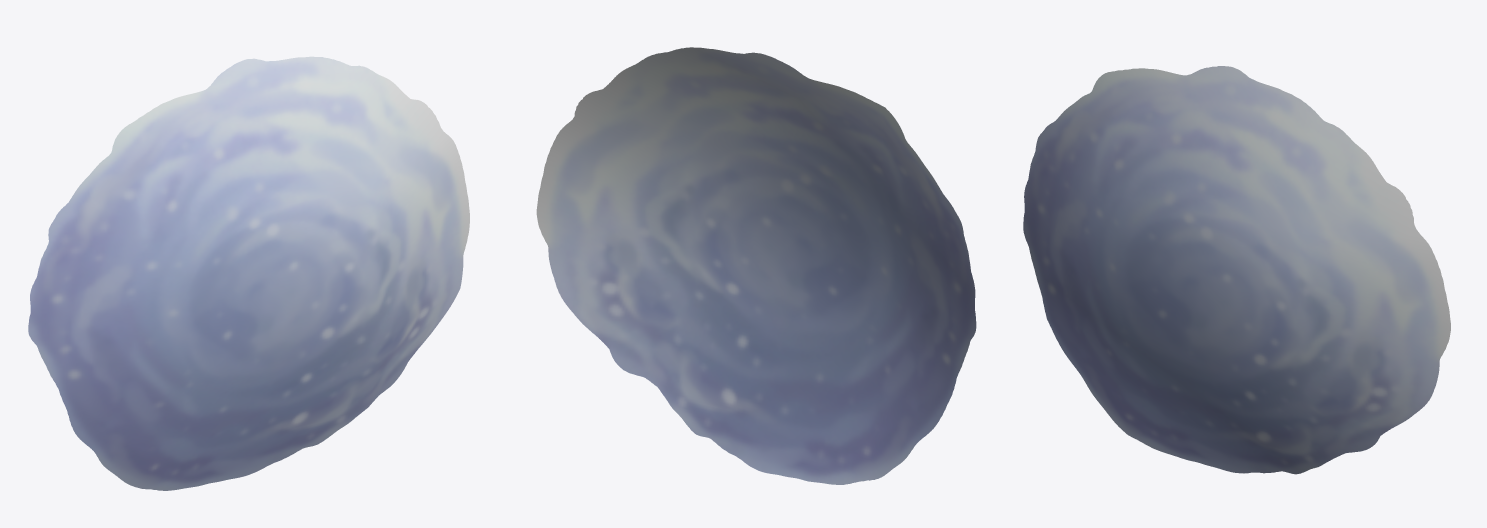
File: Avalanche.FBX
The picture shows the model from 3 angles, left to right: view 1: azimuth 30°, elevation 25°; view 2: azimuth 150°, elevation 25°; view 3: azimuth 330°, elevation 25°; orthographic projection. The views are drawn at different scales.
Parts seen in each view (by area): view 1: Avalanche; view 2: Avalanche; view 3: Avalanche.
Part boxes in pixels (<box>): Avalanche: <box>28,56,469,490</box>; Avalanche: <box>536,47,976,484</box>; Avalanche: <box>1023,66,1450,474</box>.
Size of the model in its own units: 139 by 15.55 by 128.
